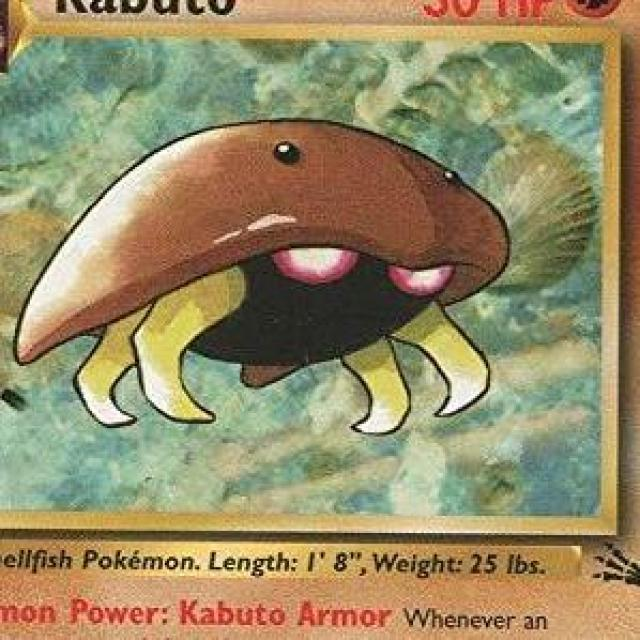Kabuto: (14, 121, 514, 422)
